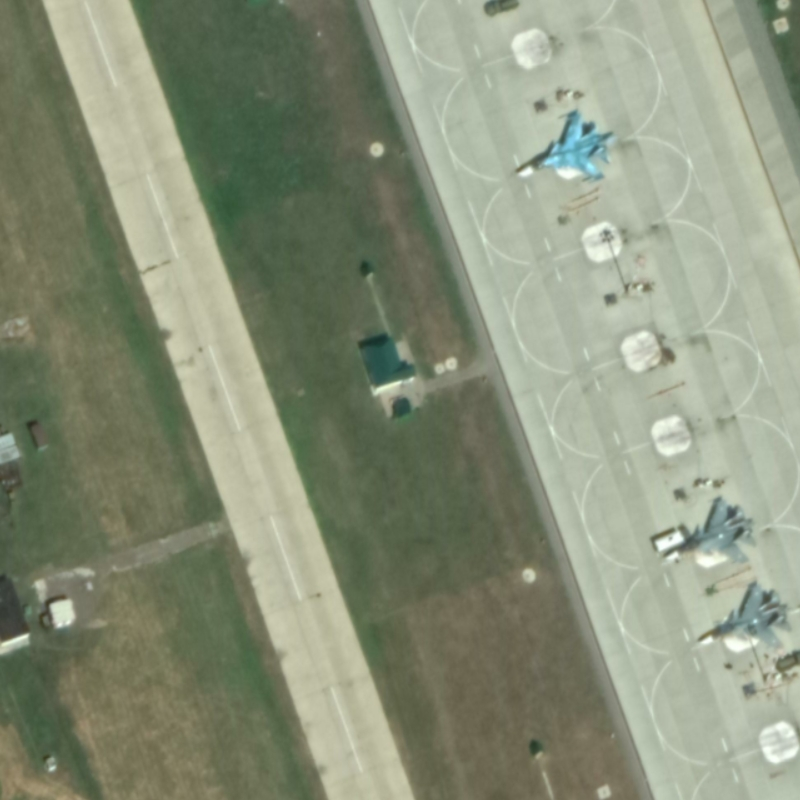A19: (514, 110, 617, 185), (696, 582, 794, 652), (662, 497, 760, 565)
